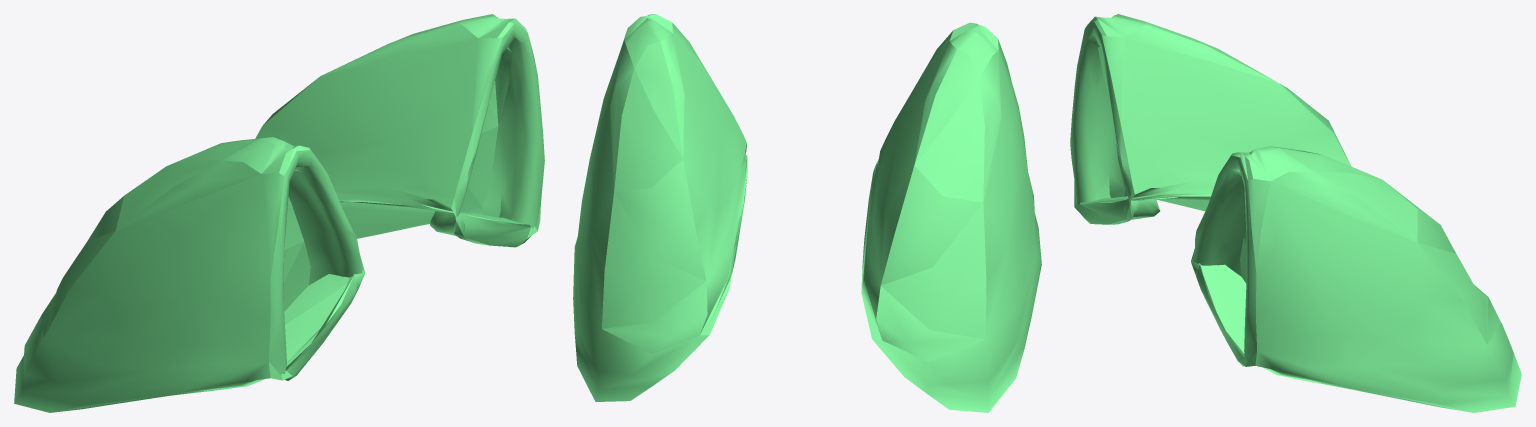
The picture shows the model from 3 angles, left to right: view 1: azimuth 30°, elevation 25°; view 2: azimuth 150°, elevation 25°; view 3: azimuth 270°, elevation 25°; orthographic projection. The views are drawn at different scales.
Visible parts, largest first — view 1: ears_006; view 2: ears_006; view 3: ears_006.
Part boxes in pixels (left/top/right/bottom): ears_006: left=14, top=14, right=544, bottom=412; ears_006: left=573, top=14, right=1041, bottom=412; ears_006: left=1070, top=14, right=1521, bottom=412.
Size of the model in its own units: 84.34 by 74.4 by 53.47.
